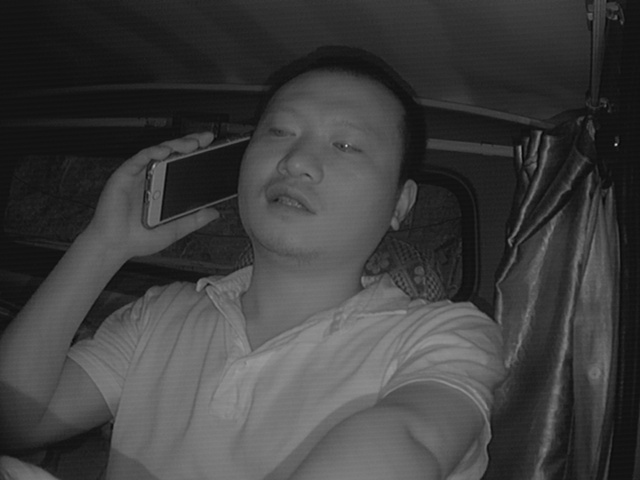hand: (101, 128, 216, 257)
